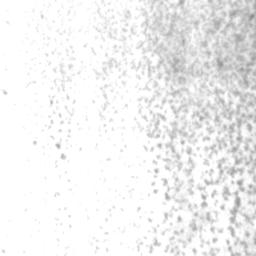Pitted surface: (131, 0, 256, 256), (178, 211, 218, 248), (165, 229, 185, 256), (103, 58, 120, 73), (149, 238, 161, 253), (200, 238, 218, 247), (203, 248, 220, 256), (210, 227, 223, 233), (164, 213, 172, 222)
